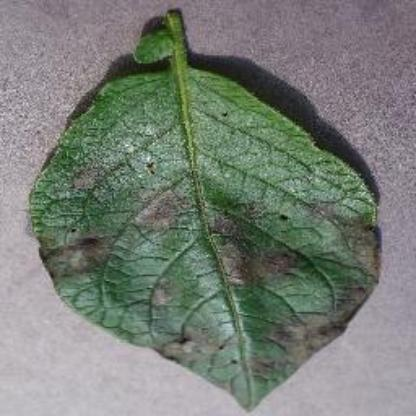Late-Blight: (21, 9, 396, 415)
